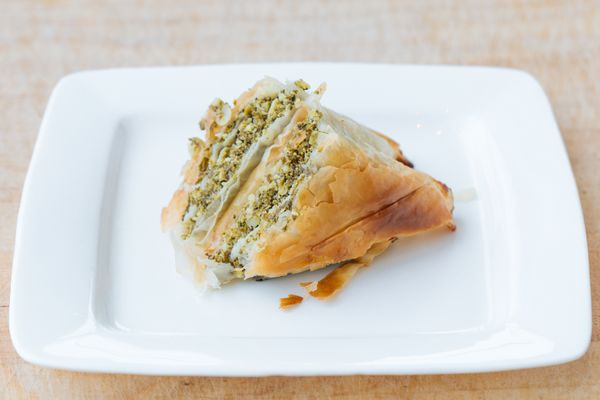soup: (159, 75, 458, 295)
